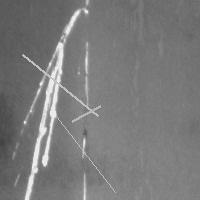scratches: (17, 3, 82, 198), (17, 49, 102, 120), (51, 111, 120, 197), (78, 129, 92, 199), (127, 1, 148, 47), (67, 101, 105, 126), (80, 40, 93, 110)
